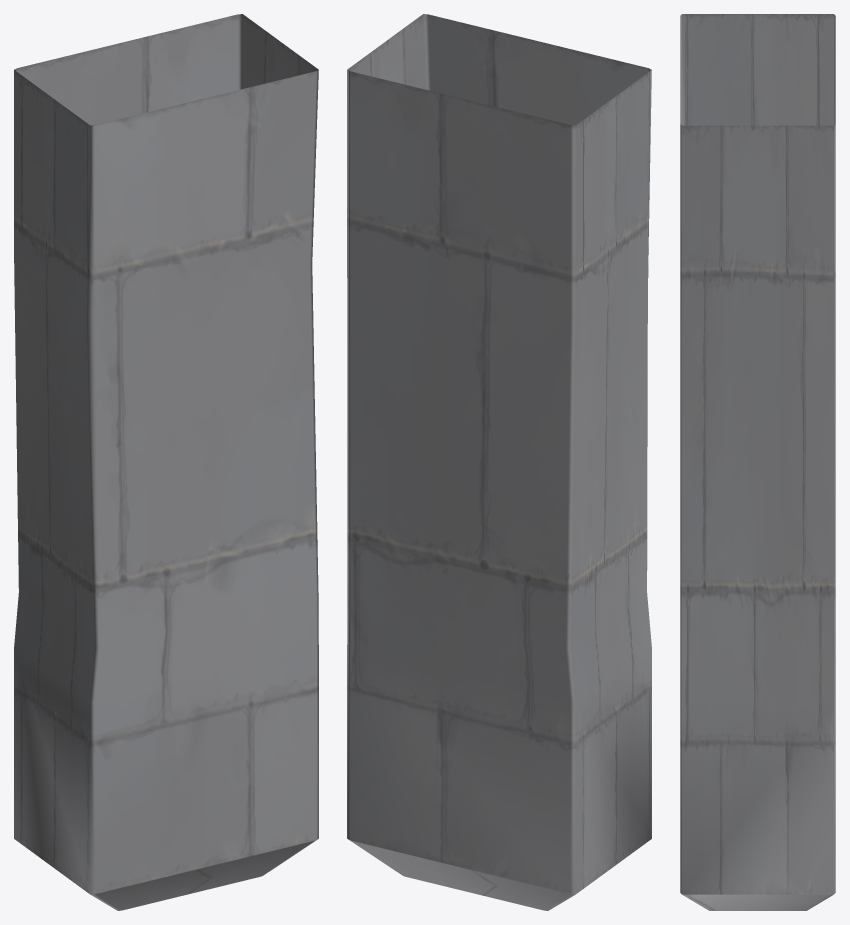
The model's file is SM_SmallArch.fbx.
3 renders of one model, left to right at view 1: azimuth 30°, elevation 25°; view 2: azimuth 150°, elevation 25°; view 3: azimuth 270°, elevation 25°, orthographic.
Visible parts, largest first — view 1: SM_SmallArch; view 2: SM_SmallArch; view 3: SM_SmallArch.
Boxes of the visible parts, box(x1,y1,x2,y2) form: SM_SmallArch: box(14, 14, 318, 910); SM_SmallArch: box(347, 14, 651, 910); SM_SmallArch: box(680, 14, 835, 910).
Size of the model in its own units: 0.6222 by 2.1 by 0.3668.
